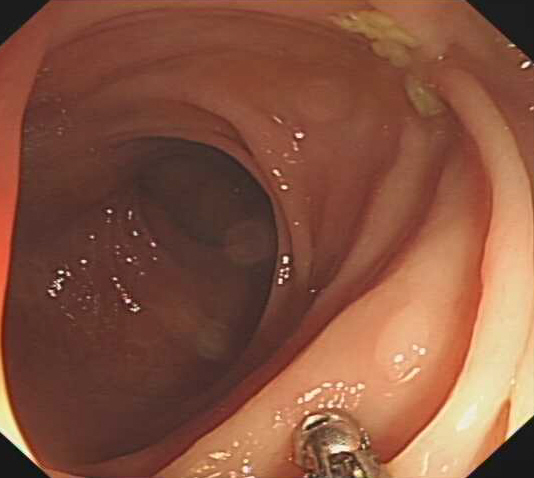others: (370, 297, 432, 385)
